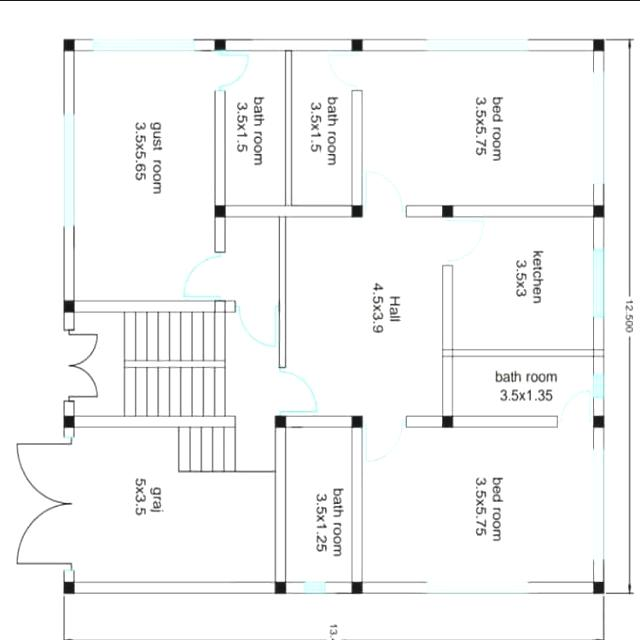Blueprint: (51, 26, 615, 608)
column: (590, 412, 606, 430), (591, 578, 607, 596), (349, 36, 365, 54), (212, 202, 228, 219), (61, 36, 77, 53), (440, 412, 456, 429), (591, 35, 606, 53), (62, 296, 77, 314), (61, 578, 76, 596), (273, 412, 288, 430), (349, 578, 365, 594), (348, 412, 364, 428), (212, 36, 228, 52), (62, 412, 76, 430), (592, 202, 606, 219), (350, 202, 364, 218), (440, 202, 454, 218), (274, 579, 288, 593)
wall: (70, 576, 280, 596), (72, 412, 240, 430), (70, 297, 240, 314), (439, 261, 457, 417), (350, 422, 366, 584), (273, 424, 289, 584), (452, 202, 596, 219), (439, 345, 609, 359), (223, 202, 355, 220), (222, 35, 354, 53), (275, 210, 289, 370), (212, 86, 230, 208), (348, 87, 366, 207), (284, 46, 296, 208), (451, 412, 561, 429), (360, 576, 431, 596), (524, 578, 598, 596), (62, 222, 78, 304), (590, 312, 610, 376), (361, 34, 432, 52), (282, 412, 354, 429), (61, 47, 78, 119), (526, 36, 596, 52), (403, 201, 445, 219), (402, 412, 446, 429), (212, 215, 228, 255), (322, 578, 356, 596), (591, 214, 607, 252), (590, 555, 608, 584), (189, 36, 217, 53), (282, 578, 308, 596), (590, 423, 607, 450), (72, 36, 96, 54), (590, 180, 606, 207), (591, 47, 607, 73), (590, 393, 608, 416), (62, 308, 76, 334), (62, 396, 78, 418), (61, 423, 78, 439), (62, 566, 78, 582)
